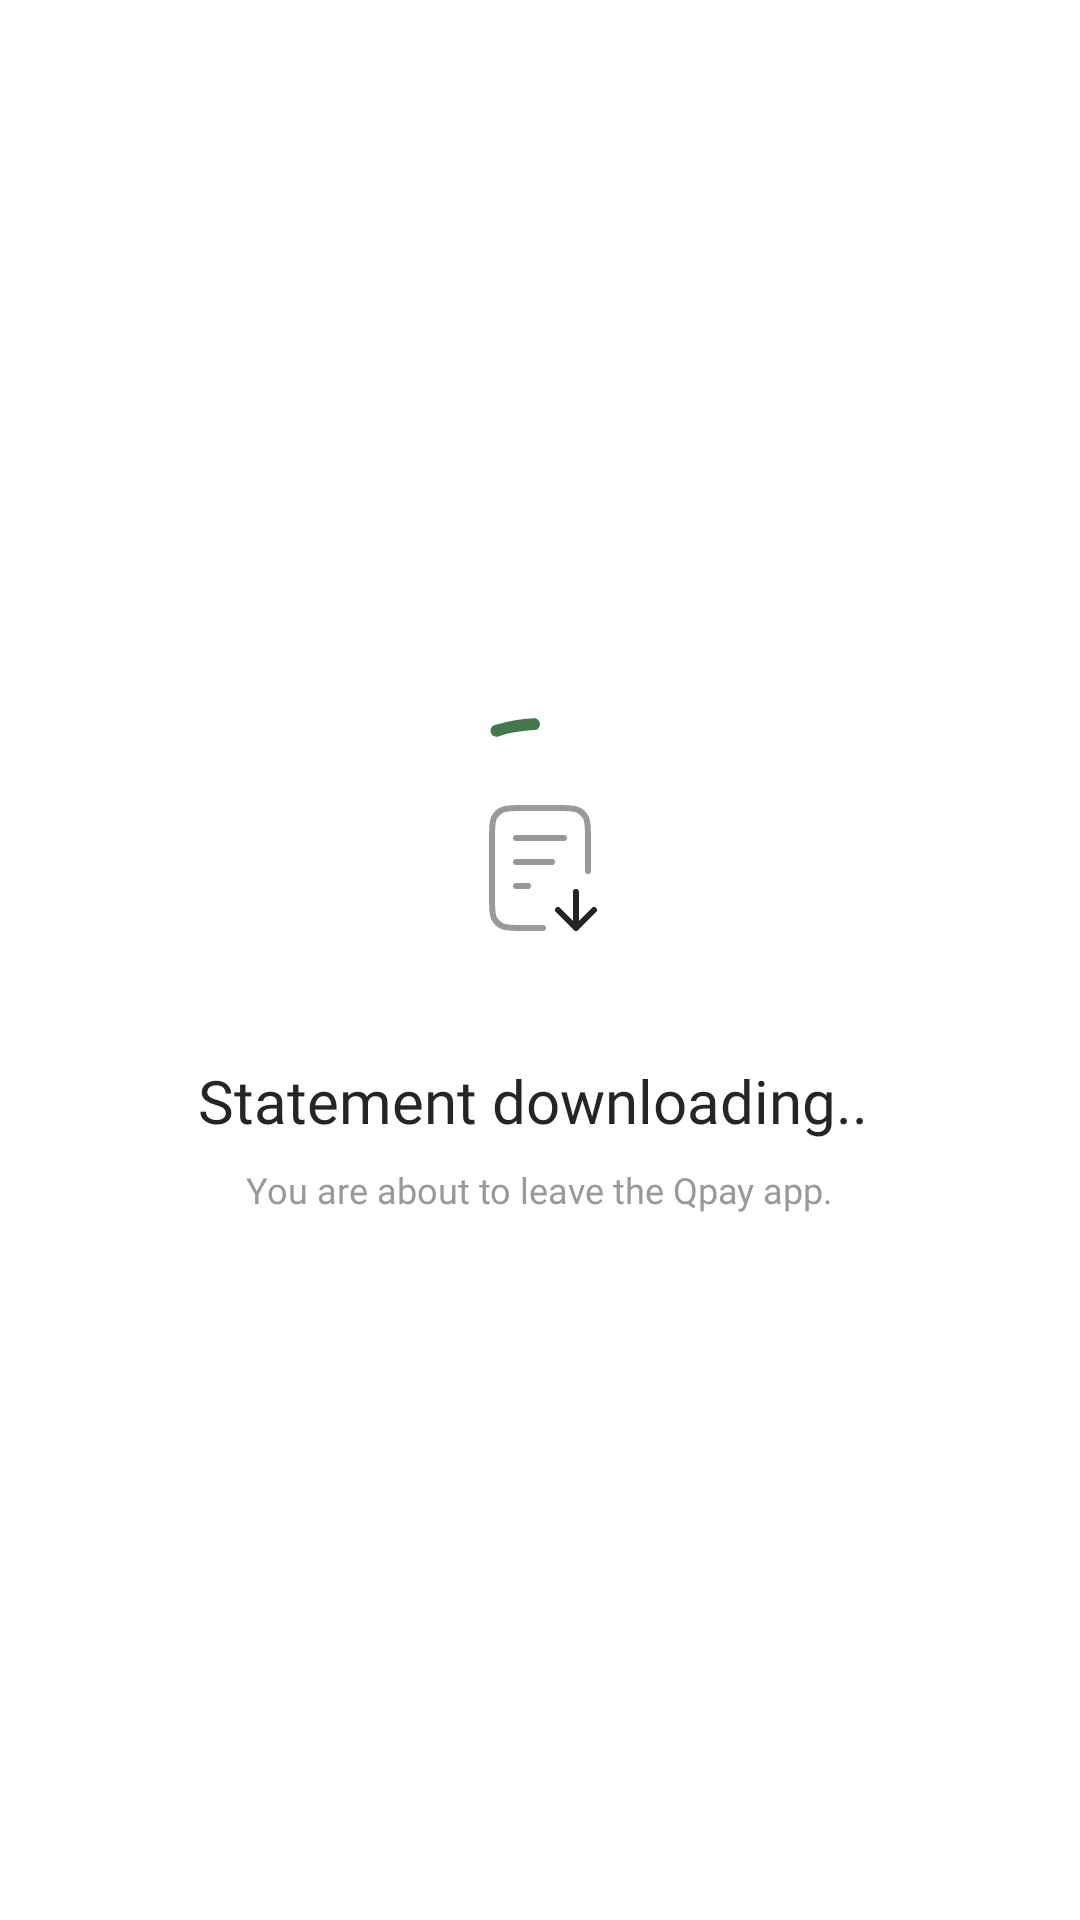

Icon bounding boxes for this 1080 × 1920 phone screenshot, format [x1=x1, y1=y1, x2=x2, y2=y2]:
download pending state: [x1=489, y1=805, x2=597, y2=931]
